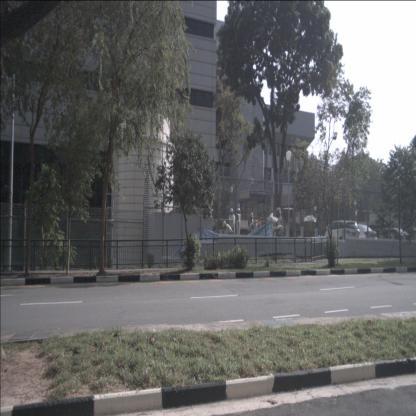vehicle-car: (338, 224, 378, 247), (325, 220, 360, 243), (358, 223, 392, 245), (379, 228, 410, 246), (379, 228, 404, 246), (400, 226, 416, 245)
